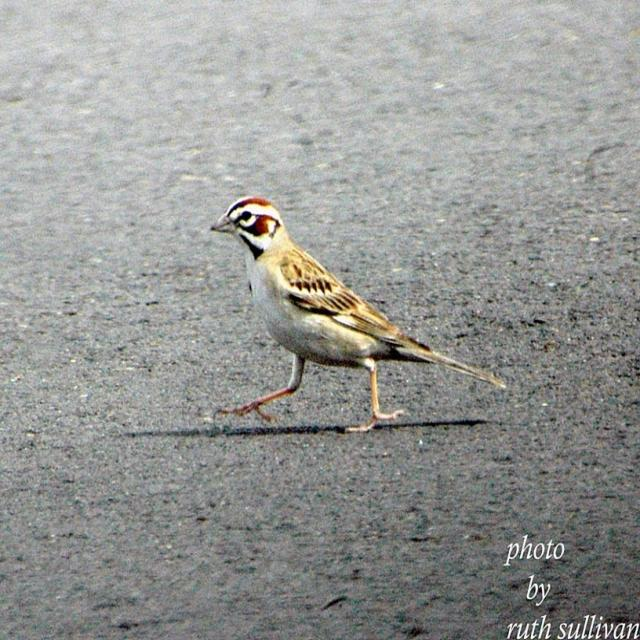bird: (199, 199, 516, 432)
